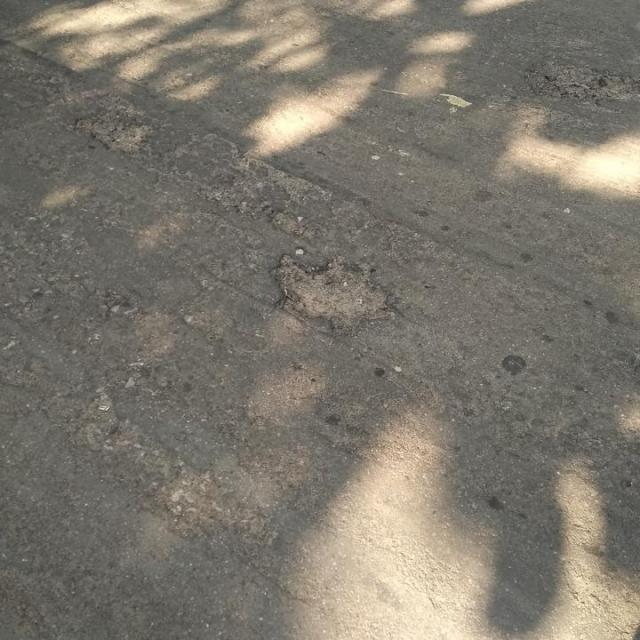pothole: (268, 250, 398, 332), (521, 58, 640, 106)
